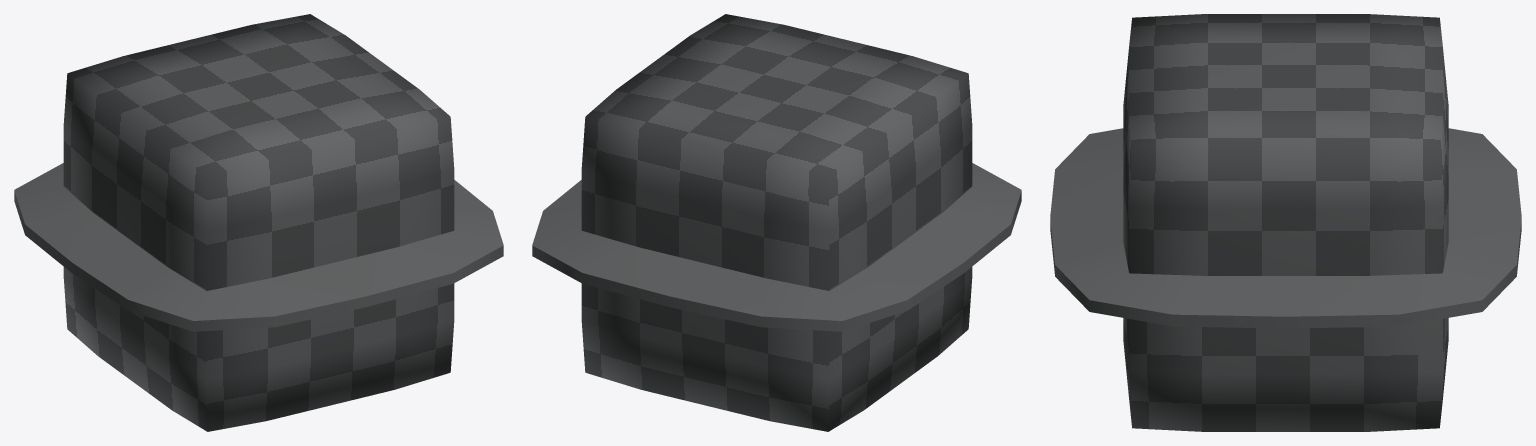
File: almond_cube.obj
The picture shows the model from 3 angles, left to right: view 1: azimuth 30°, elevation 25°; view 2: azimuth 150°, elevation 25°; view 3: azimuth 270°, elevation 25°; orthographic projection. The views are drawn at different scales.
Parts seen in each view (by area): view 1: almond_cube; view 2: almond_cube; view 3: almond_cube.
Boxes of the visible parts, box(x1,y1,x2,y2) form: almond_cube: box(14, 14, 503, 431); almond_cube: box(532, 14, 1021, 431); almond_cube: box(1050, 14, 1521, 431).
Bounding box in the file's own units: 0.0724 × 0.05 × 0.0724.
